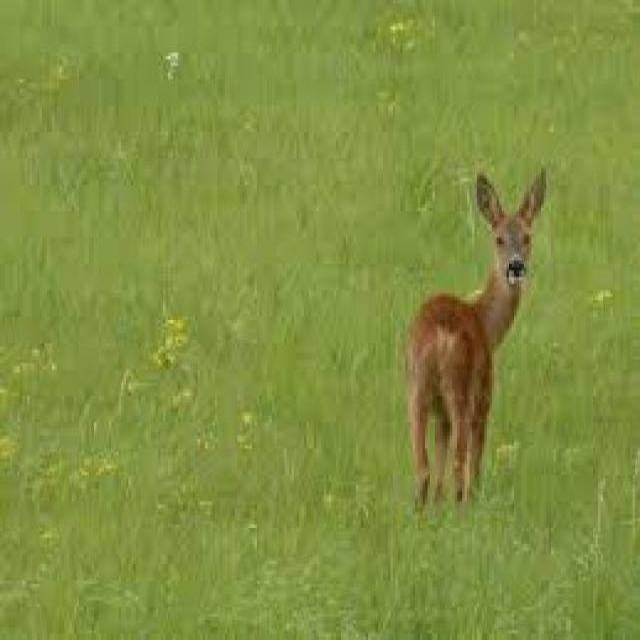deer: (394, 142, 558, 530)
